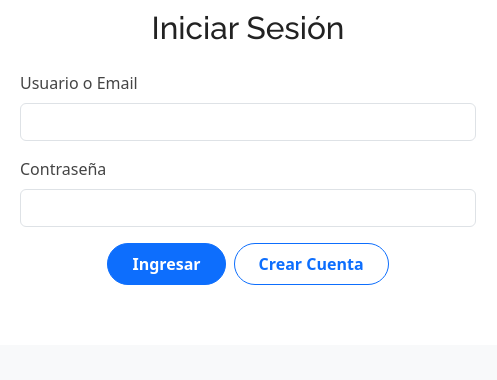
Test: Auth - Login › muestra error si el usuario no existe
Type "no@ex.com" into the field labelled "Usuario o Email" at (248, 122), box [20,103,476,141]
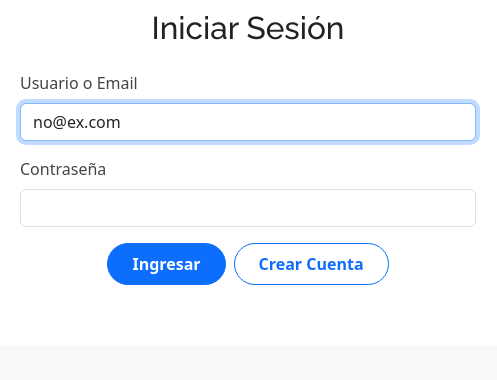
Type "12345678" into the password field labelled "Contraseña" at (248, 208), box [20,189,476,227]
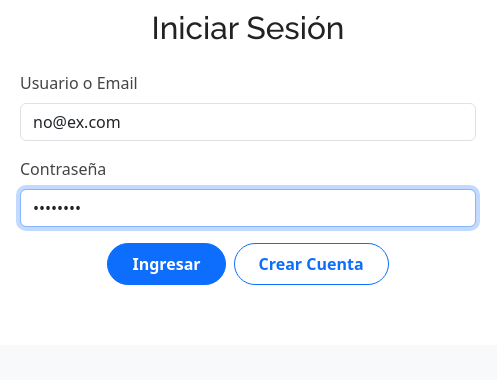
Click the button "Ingresar" at (166, 264), box [107,243,226,285]
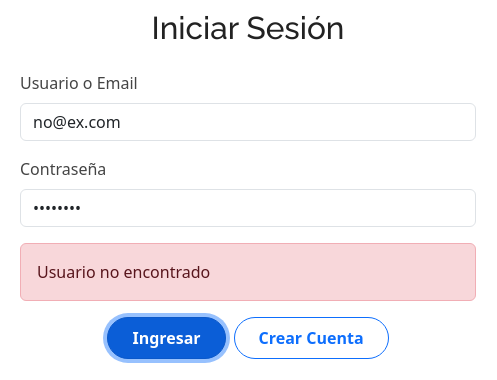
Now the text "Usuario no encontrado" is shown, box [20,243,476,301]
